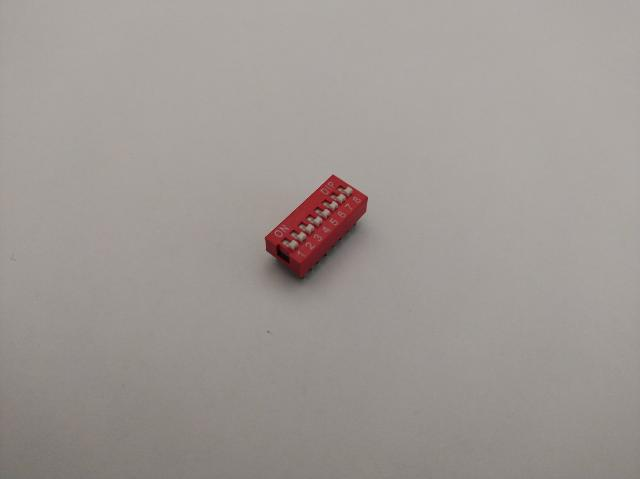dip_switch: (264, 174, 368, 280)
